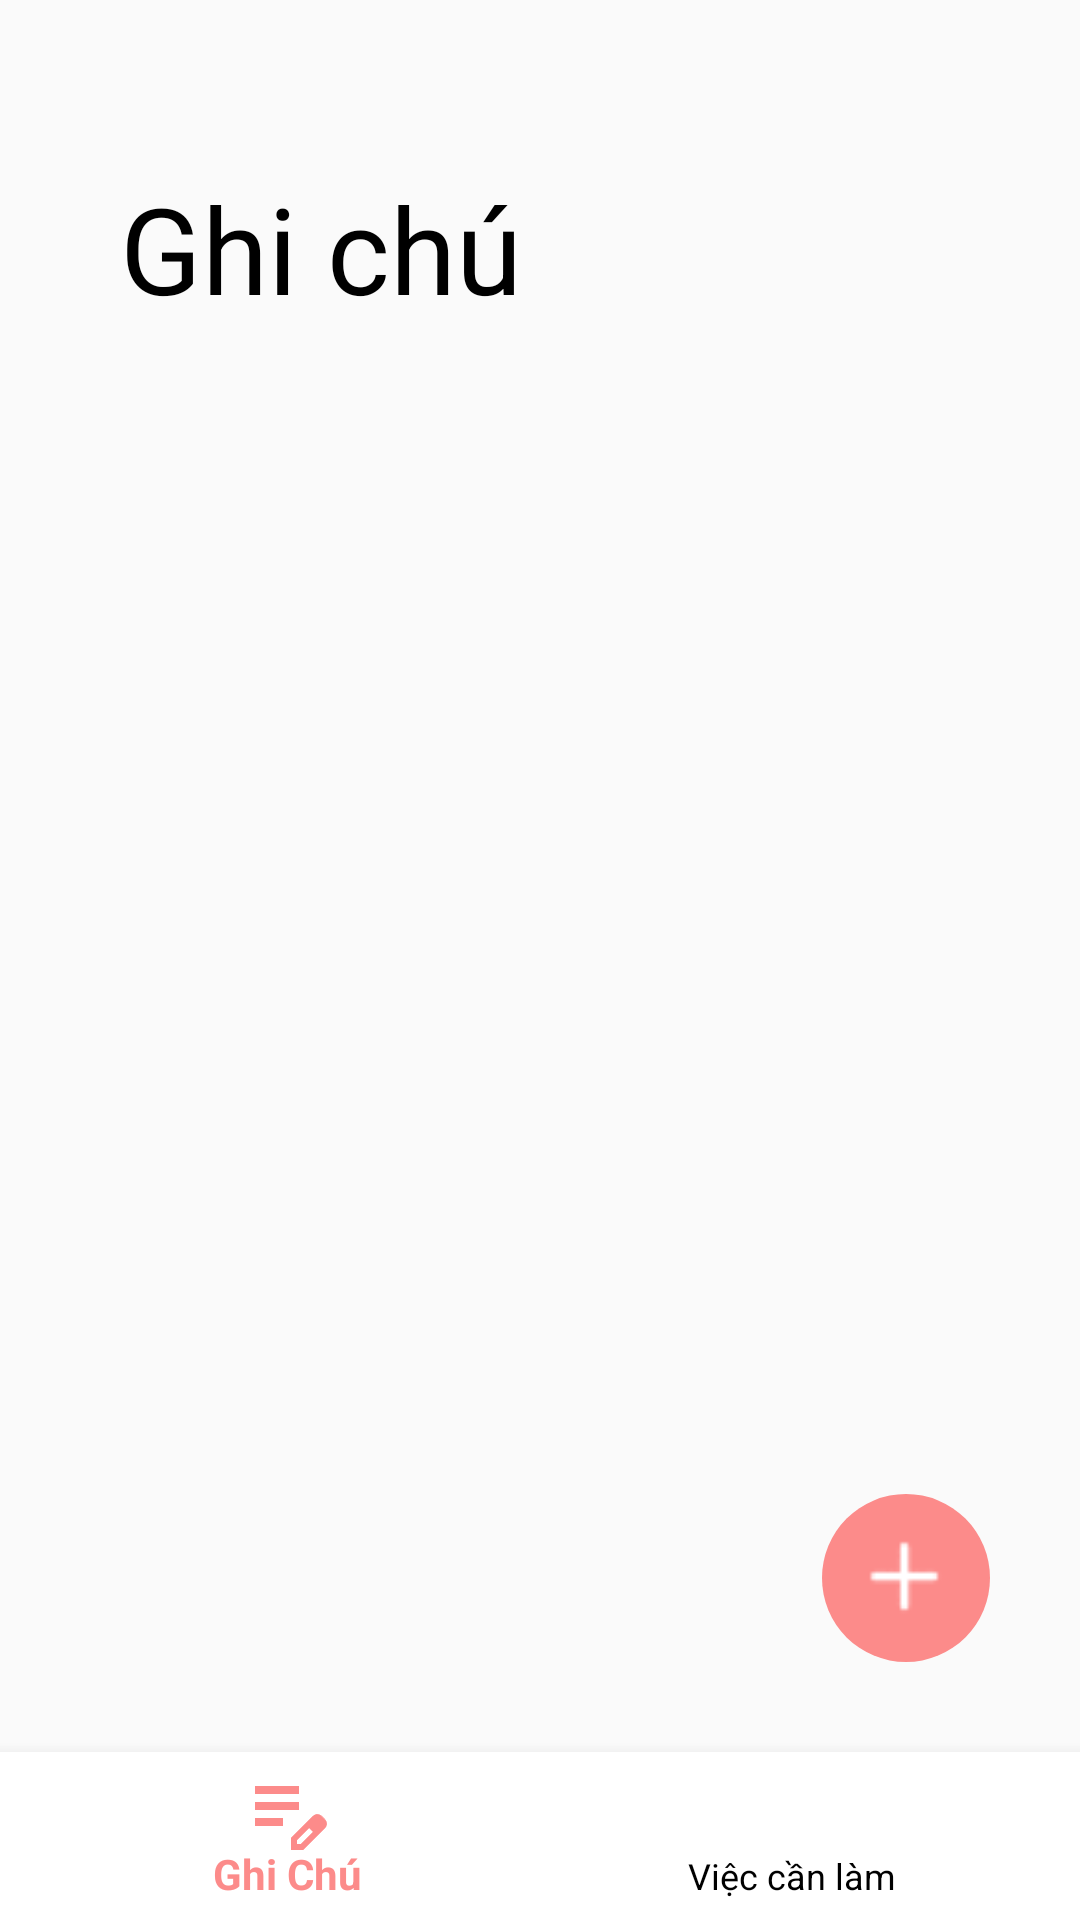

Where to tap for icons on this 1080w x 1920h app screen, as [x,y]:
add: [906,1578]
